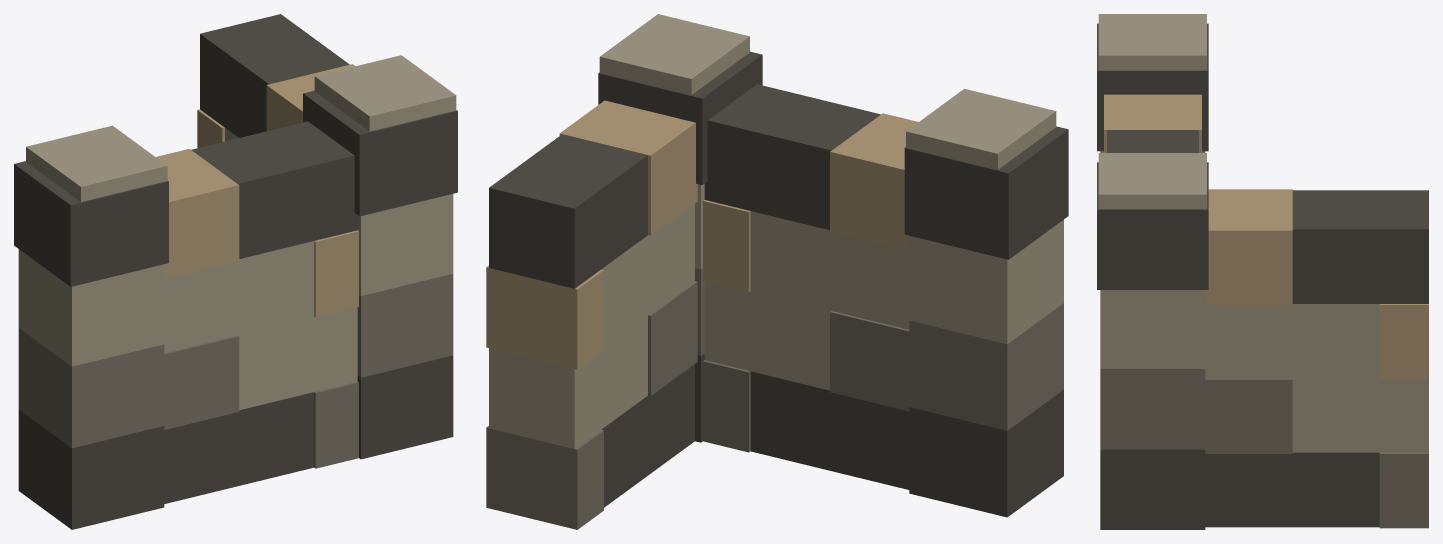
Rendered from TW_STONE_CORNER_L90_B_LOD0.glb.
3 renders of one model, left to right at view 1: azimuth 30°, elevation 25°; view 2: azimuth 150°, elevation 25°; view 3: azimuth 270°, elevation 25°, orthographic. The views are drawn at different scales.
Visible parts, largest first — view 1: TW_STONE_CORNER_L90_B_LOD0; view 2: TW_STONE_CORNER_L90_B_LOD0; view 3: TW_STONE_CORNER_L90_B_LOD0.
Part boxes in pixels (x1,y1,x2,y2): TW_STONE_CORNER_L90_B_LOD0: (14,14,457,529); TW_STONE_CORNER_L90_B_LOD0: (486,14,1068,529); TW_STONE_CORNER_L90_B_LOD0: (1097,14,1428,529).
Bounding box in the file's own units: 1.34 × 1.13 × 1.01.
Materials: 1 (1 with a texture image).
